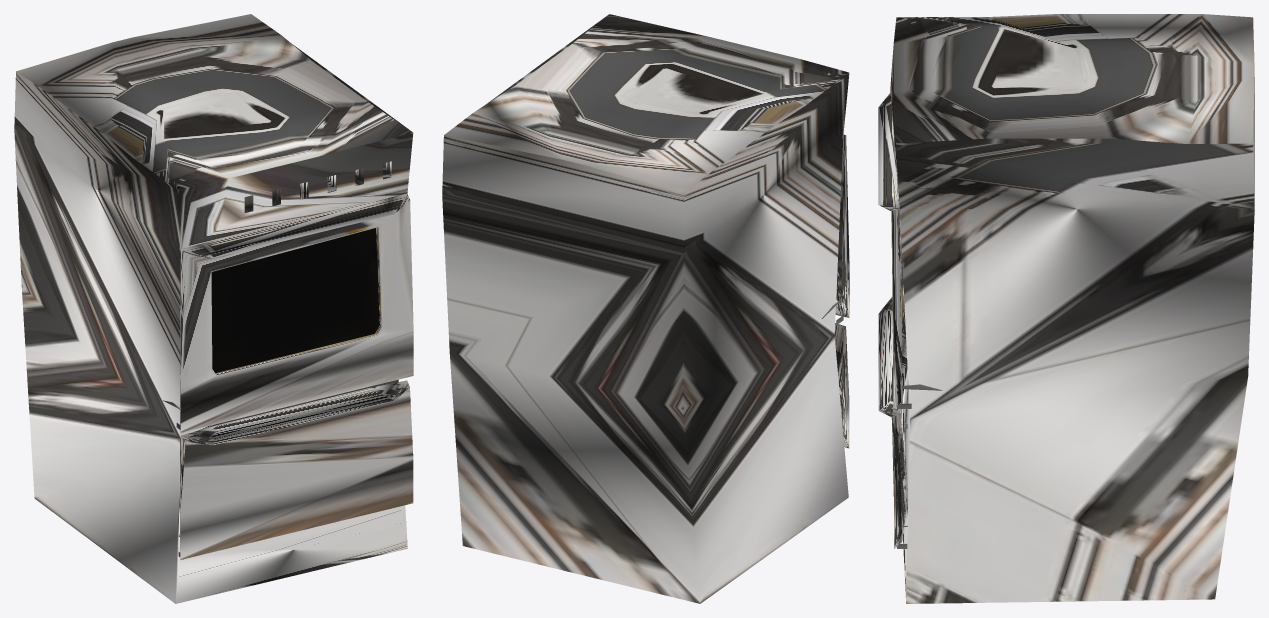
Rendered from electric_stove_lod1.glb.
The picture shows the model from 3 angles, left to right: view 1: azimuth 30°, elevation 25°; view 2: azimuth 150°, elevation 25°; view 3: azimuth 270°, elevation 25°; orthographic projection. The views are drawn at different scales.
Visible parts, largest first — view 1: stovetop, door_top, handle_bottom_attachment; view 2: stovetop, door_top, handle_bottom_attachment; view 3: stovetop, door_top, handle_bottom_attachment.
Part boxes in pixels (x1,y1,x2,y2): stovetop: [14, 14, 413, 603]; door_top: [180, 193, 413, 432]; handle_bottom_attachment: [180, 380, 413, 559]; stovetop: [442, 14, 849, 603]; door_top: [835, 134, 849, 317]; handle_bottom_attachment: [834, 323, 849, 448]; stovetop: [890, 14, 1254, 603]; door_top: [878, 92, 907, 408]; handle_bottom_attachment: [878, 297, 906, 548].
Bounding box in the file's own units: 0.5 × 0.8578 × 0.625.
2 materials, 2 textured.
